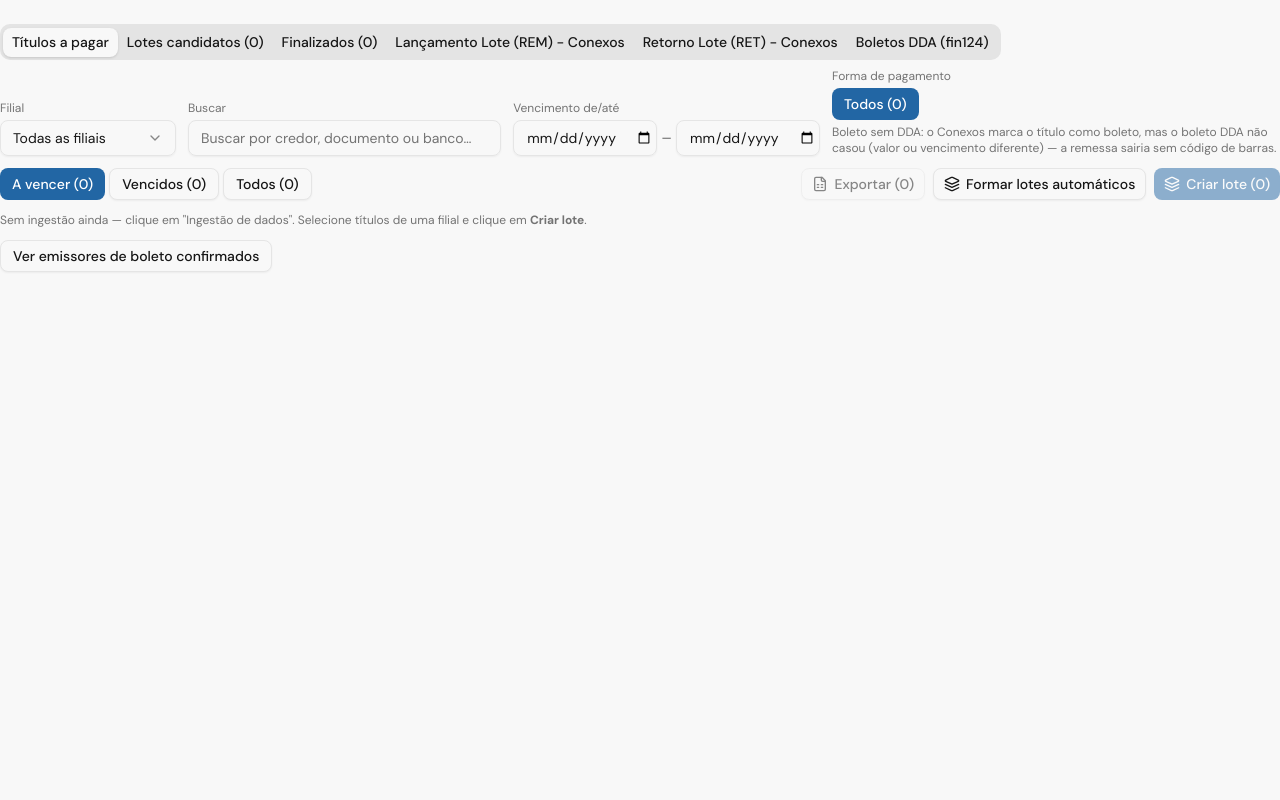
SispagPage — Processar e conciliar pede confirmação › "Voltar" fecha sem processar
Click the tab "Retorno Lote (RET) - Conexos" at (740, 42), box [634,28,847,56]
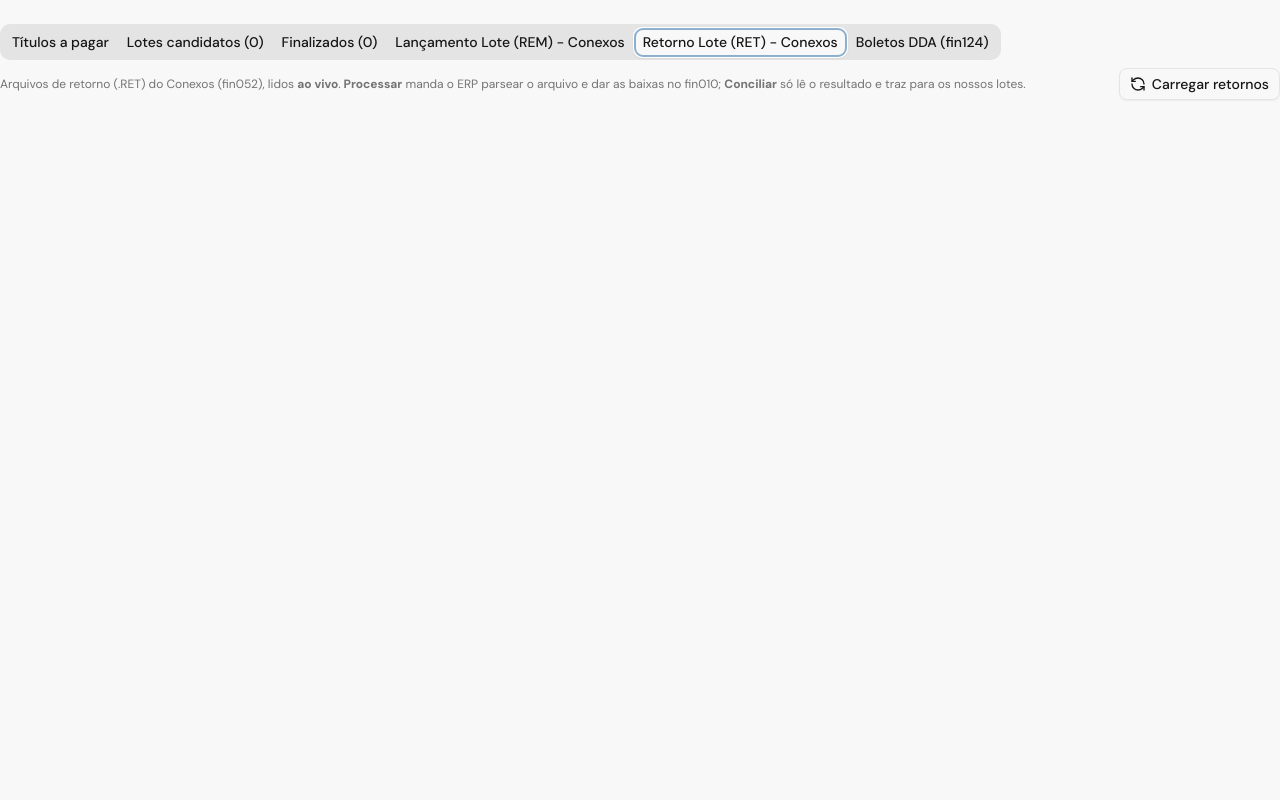
Click the button "Carregar retornos" at (1199, 84), box [1119,68,1279,100]
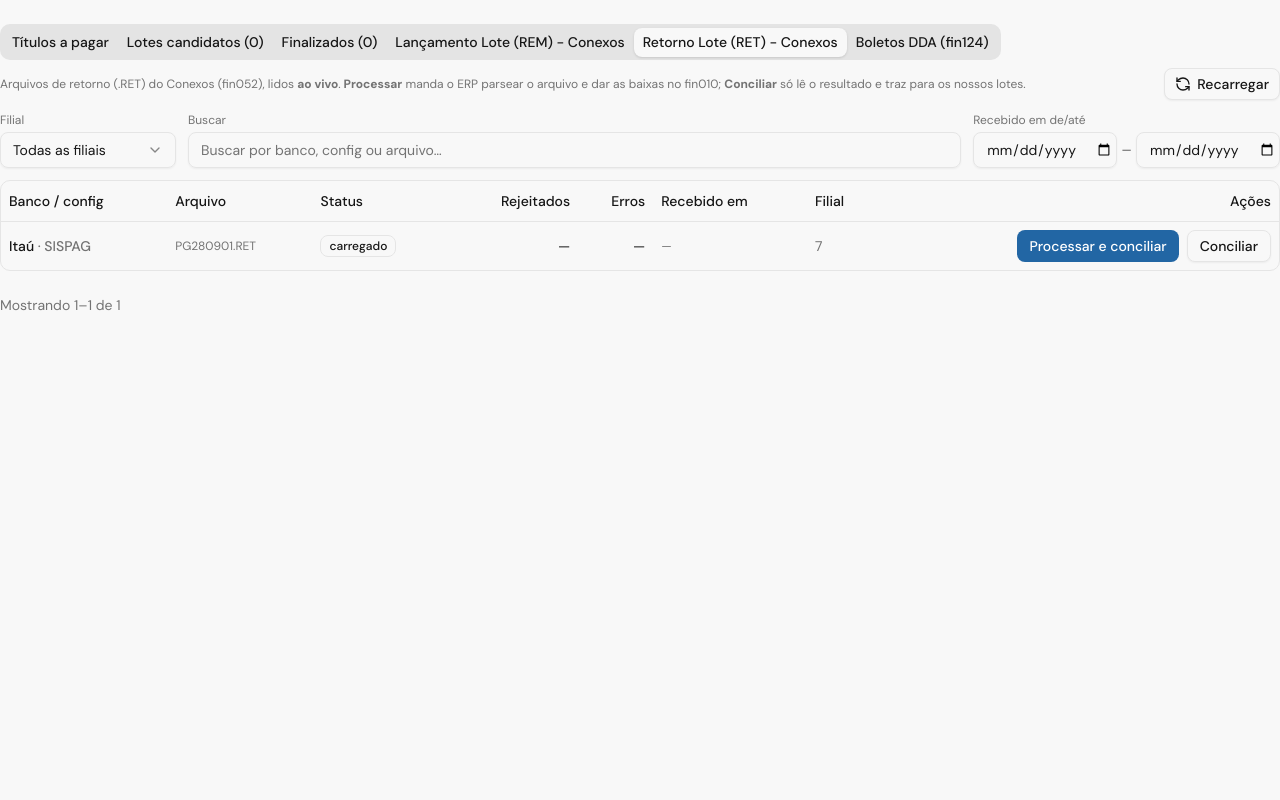
Click the button "Processar e conciliar" at (1098, 246), box [1018,230,1179,262]
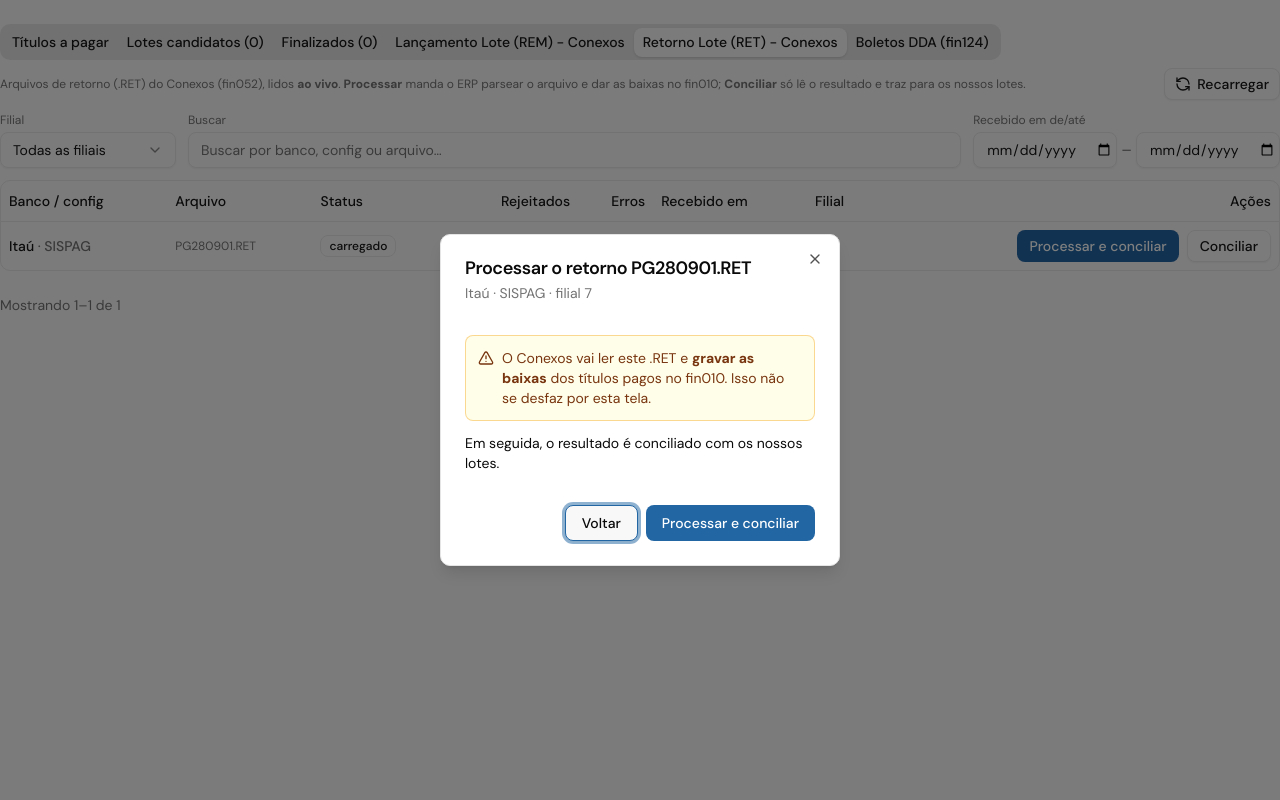
Click the button "Voltar" at (601, 523), box [565,505,638,541]
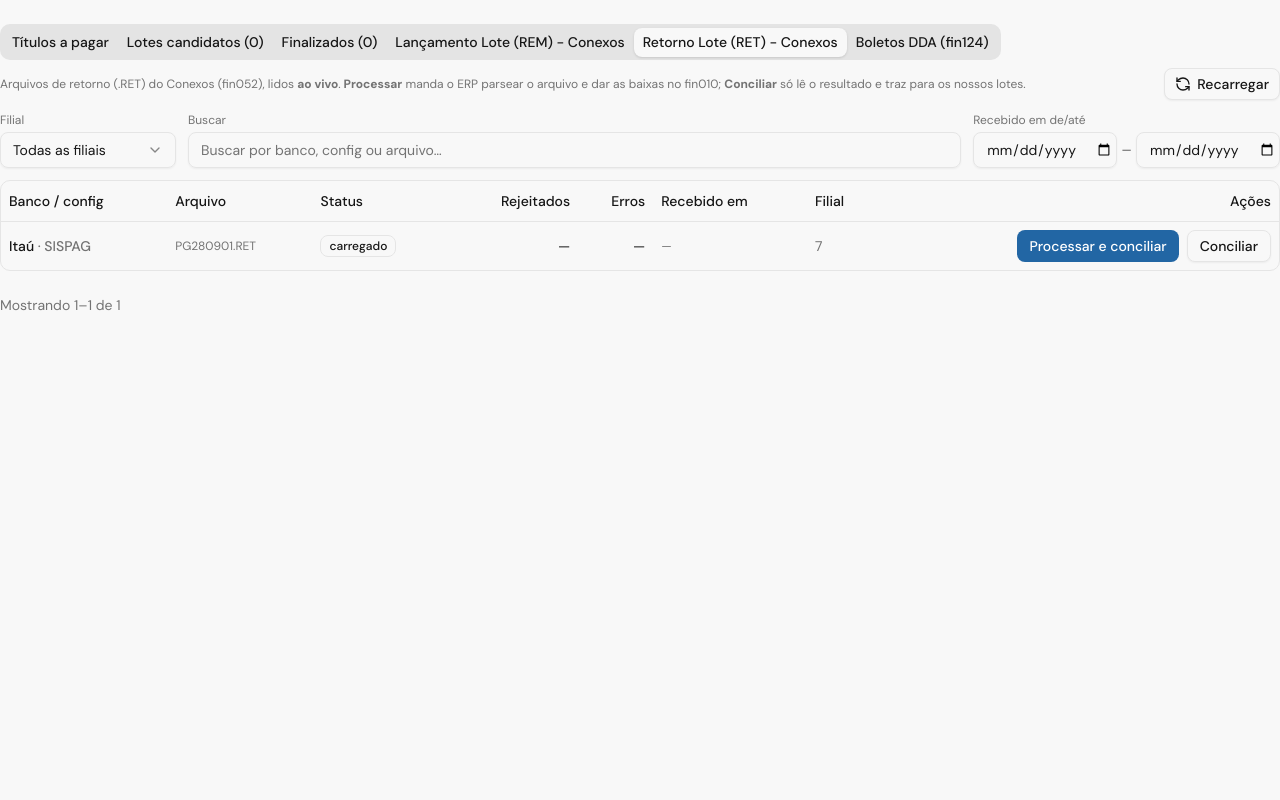
Now the dialog is gone
